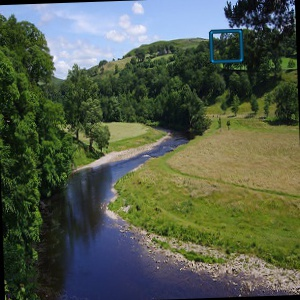square: (207, 27, 246, 66)
